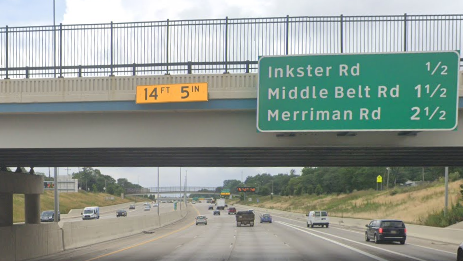1: (141, 86, 151, 103)
4: (147, 86, 160, 103)
5: (177, 85, 191, 100)
overheadsign: (134, 84, 210, 103)
